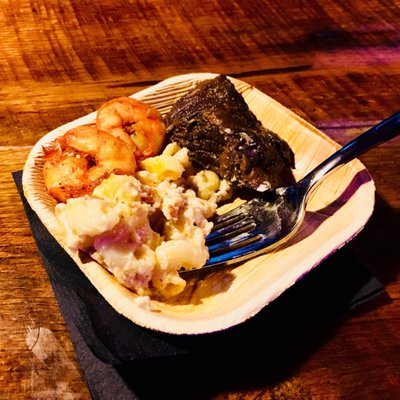burger: (175, 108, 400, 289)
